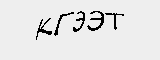Г: (54, 10, 74, 37)
К: (32, 15, 51, 42)
Т: (107, 11, 123, 31)
Э: (86, 5, 104, 33), (71, 7, 87, 34)
